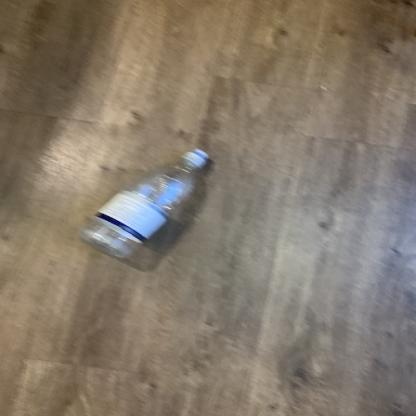trash: (78, 147, 209, 262)
